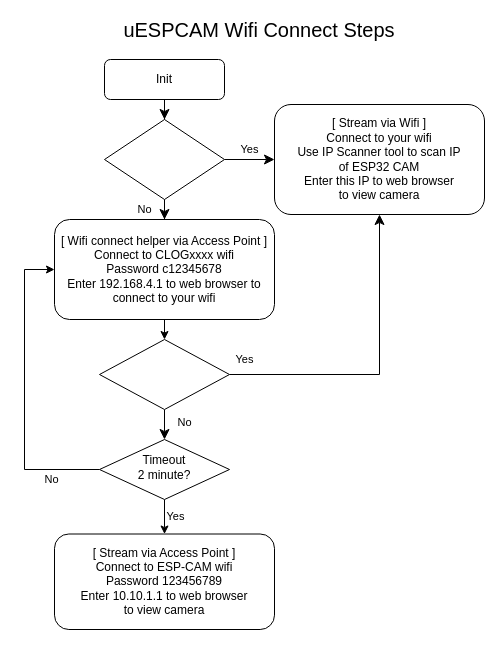
The diagram is 502 pixels wide and 647 high, and some of its shapes have lost their labels. Each missing label, with the centre of its shape:
"Wifi Auto Connected?" goes at [164,159].
"Wifi Manual Connected?" goes at [164,374].
